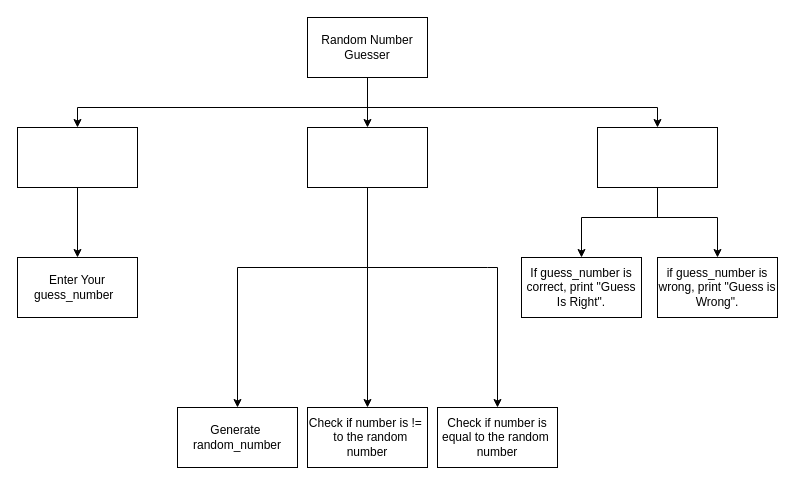
Image size: 795x485. Some labels were removed from this diagram. The centre of each missing label's shape, as x and y in pixels:
Input: point 77,157
Output: point 657,157
Process: point 367,157
